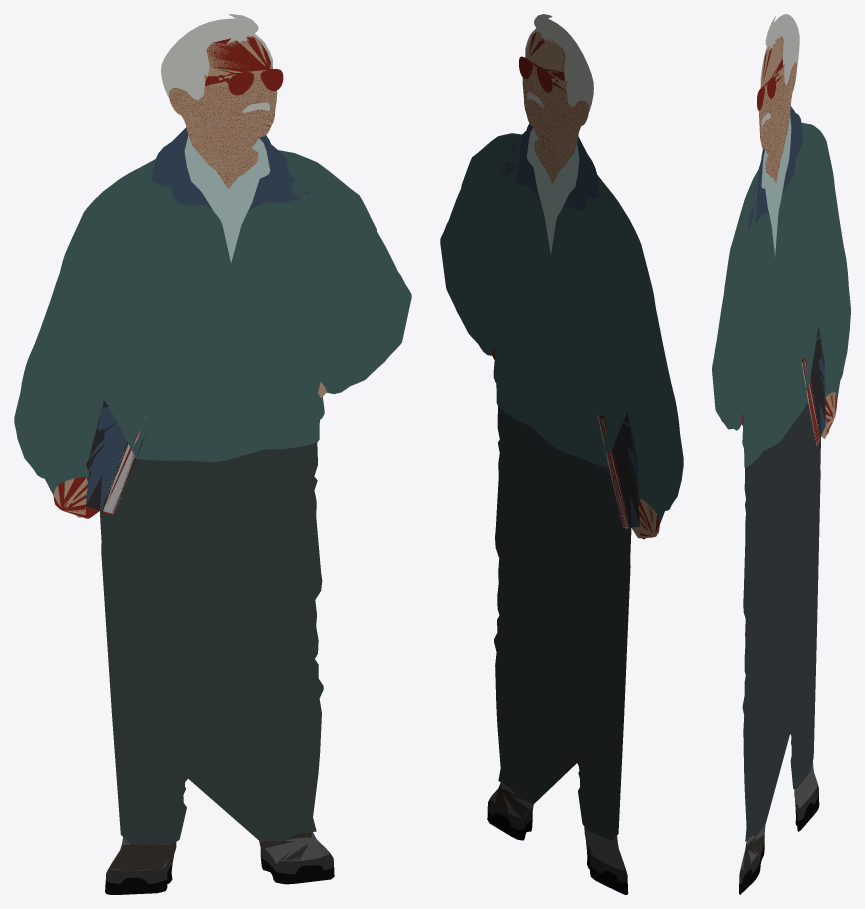
Rendered from World.fbx.
3 renders of one model, left to right at view 1: azimuth 30°, elevation 25°; view 2: azimuth 150°, elevation 25°; view 3: azimuth 270°, elevation 25°, orthographic. The views are drawn at different scales.
Parts seen in each view (by area): view 1: Steve1; view 2: Steve1; view 3: Steve1.
Part boxes in pixels (left/top/right/bottom): Steve1: left=14, top=14, right=411, bottom=894; Steve1: left=440, top=14, right=683, bottom=894; Steve1: left=712, top=14, right=850, bottom=894.
Size of what is drawn, in the model's own units: 0.6595 by 1.69 by 0.2534.
